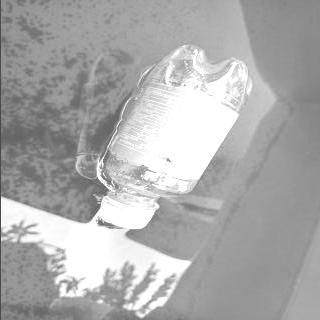bottle: (98, 42, 255, 232)
